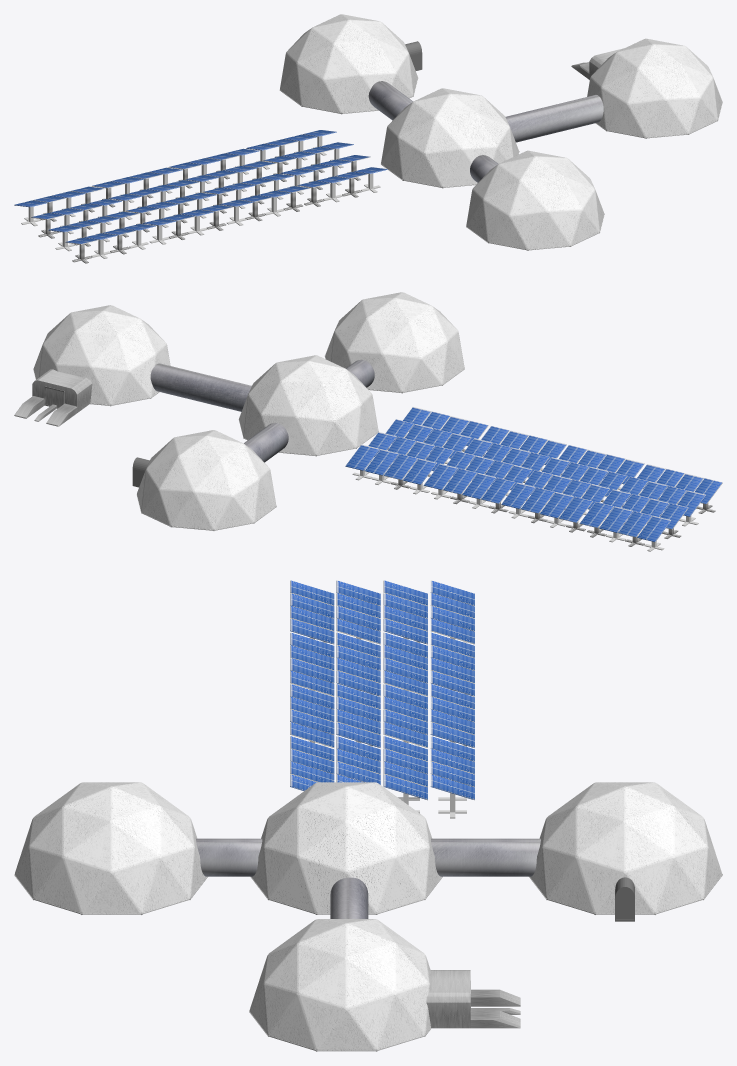
The model's file is станция .fbx.
3 views of the same model, one above another, from view 1: azimuth 30°, elevation 25°; view 2: azimuth 150°, elevation 25°; view 3: azimuth 270°, elevation 25° (orthographic). The views are drawn at different scales.
Visible parts, largest first — view 1: Icosphere.002, Icosphere.003, Icosphere.004, Icosphere.005, Cylinder.001, Cylinder, Cylinder.002; view 2: Icosphere.004, Icosphere.005, Icosphere.002, Icosphere.003, Cylinder.001, Cube.005, Cylinder, Cube.254, Cube.1018, Cube.130, Cube.026, Cube.246 (+13 smaller); view 3: Icosphere.002, Icosphere.003, Icosphere.004, Icosphere.005, Cylinder, Cube.005, Cylinder.002, Cylinder.001, Cube.001, Cube, Cube.002.
Boxes of the visible parts, <box> form: Icosphere.002: <box>466,150,604,250</box>; Icosphere.003: <box>587,38,722,138</box>; Icosphere.004: <box>279,14,418,114</box>; Icosphere.005: <box>380,88,519,188</box>; Cylinder.001: <box>505,95,603,142</box>; Cylinder: <box>368,81,412,120</box>; Cylinder.002: <box>470,155,498,182</box>; Icosphere.004: <box>136,430,276,530</box>; Icosphere.005: <box>238,355,378,456</box>; Icosphere.002: <box>324,292,464,393</box>; Icosphere.003: <box>33,305,170,406</box>; Cylinder.001: <box>150,363,251,411</box>; Cube.005: <box>32,369,92,412</box>; Cylinder: <box>244,422,288,462</box>; Cube.254: <box>443,468,476,494</box>; Cube.1018: <box>539,492,573,518</box>; Cube.130: <box>423,463,457,489</box>; Cube.026: <box>402,458,436,484</box>; Cube.246: <box>462,473,496,499</box>; Icosphere.002: <box>14,782,207,914</box>; Icosphere.003: <box>249,919,432,1051</box>; Icosphere.004: <box>529,782,722,914</box>; Icosphere.005: <box>250,782,442,914</box>; Cylinder: <box>431,838,540,876</box>; Cube.005: <box>426,970,470,1028</box>; Cylinder.002: <box>196,838,262,876</box>; Cylinder.001: <box>330,877,368,918</box>; Cube.001: <box>470,1010,520,1028</box>; Cube: <box>615,877,634,921</box>; Cube.002: <box>471,989,520,1006</box>.
Size of the model in its own units: 5876 by 559 by 4021.
Materials: 128 (127 with a texture image).
